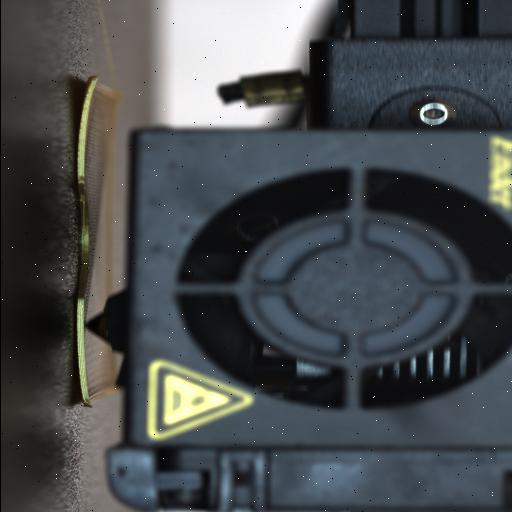warp: (74, 75, 98, 195), (74, 294, 90, 405)
